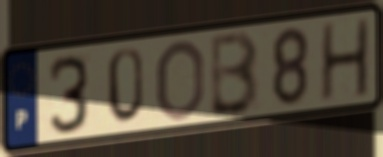0: (104, 46, 145, 128)
3: (46, 52, 92, 137)
8: (269, 25, 311, 109)
B: (208, 28, 262, 119)
H: (318, 15, 372, 104)
O: (154, 37, 206, 124)
